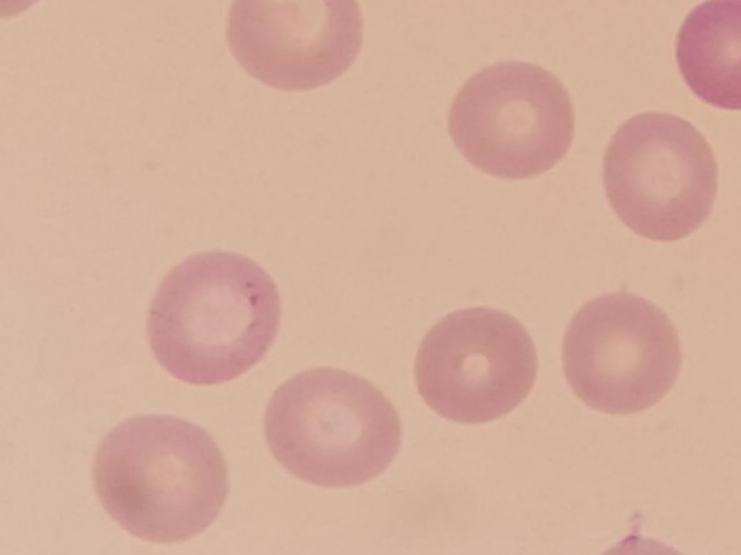Uninfected: (144, 255, 279, 388), (93, 413, 224, 544), (264, 368, 404, 489), (446, 60, 577, 180), (603, 113, 718, 243), (561, 295, 683, 417), (414, 305, 538, 422), (226, 0, 360, 93)
